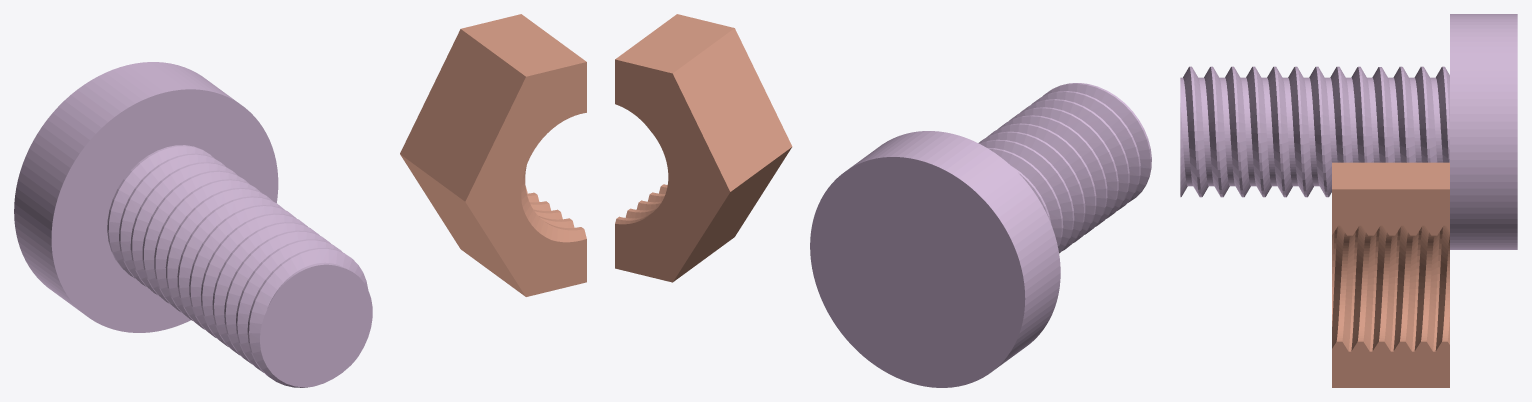
The model's file is thread_demo.glb.
3 views of the same model, side by side, from view 1: azimuth 30°, elevation 25°; view 2: azimuth 150°, elevation 25°; view 3: azimuth 270°, elevation 25° (orthographic). The views are drawn at different scales.
Visible parts, largest first — view 1: m8_bolt, tapped_nut_cutaway; view 2: m8_bolt, tapped_nut_cutaway; view 3: m8_bolt, tapped_nut_cutaway.
Part boxes in pixels (left/top/right/bottom): m8_bolt: left=14, top=62, right=372, bottom=387; tapped_nut_cutaway: left=400, top=14, right=586, bottom=296; m8_bolt: left=810, top=83, right=1151, bottom=387; tapped_nut_cutaway: left=615, top=14, right=792, bottom=282; m8_bolt: left=1180, top=14, right=1517, bottom=249; tapped_nut_cutaway: left=1332, top=162, right=1449, bottom=387.
Size of the model in its own units: 29 by 14 by 20.
